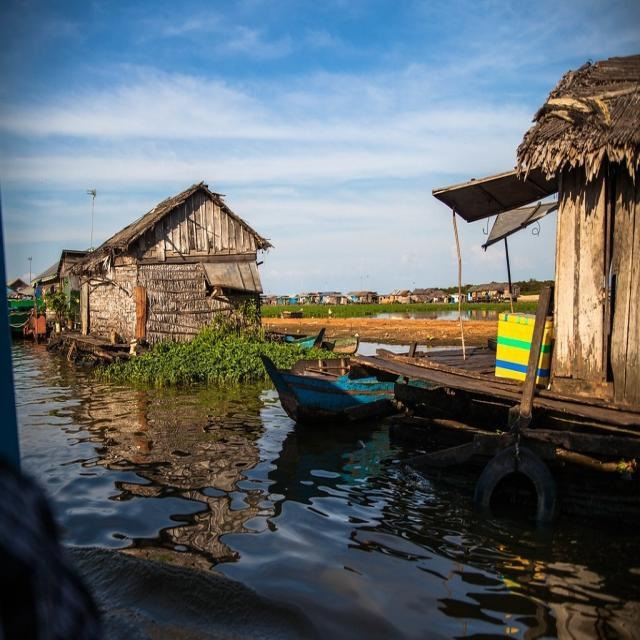Hyacinth: (130, 320, 298, 386)
boat: (262, 346, 408, 421)
